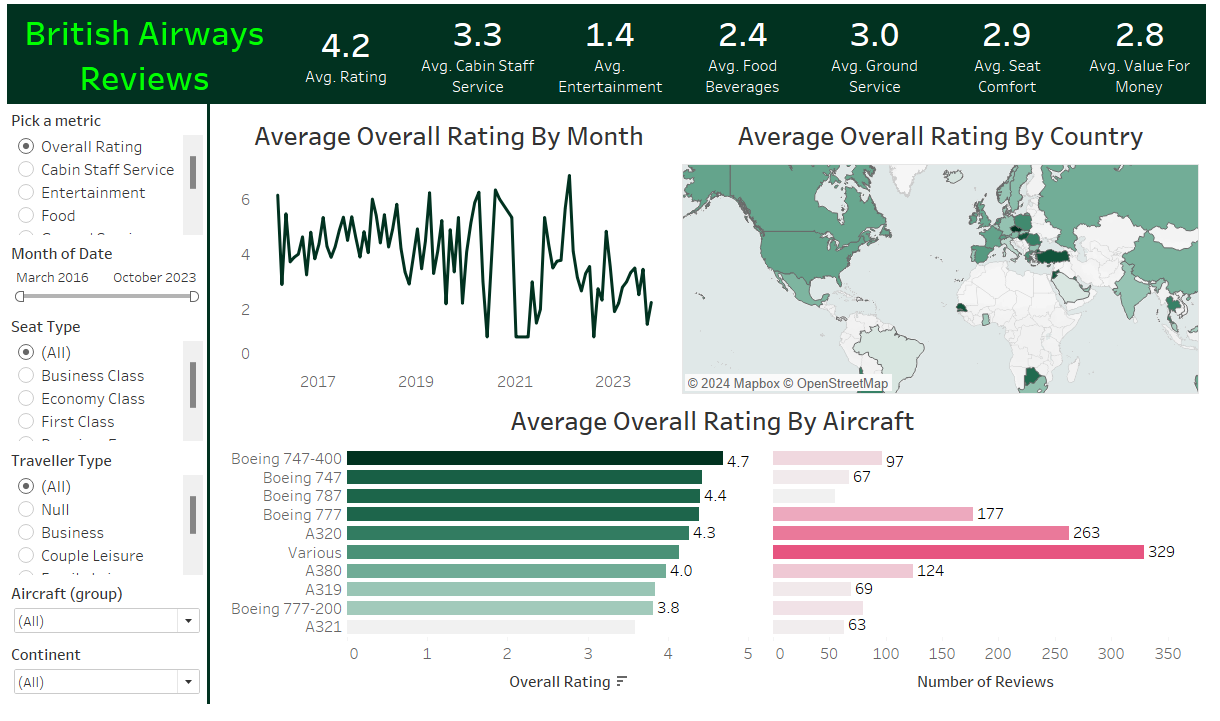

The page's visual inventory and layout, read from the dashboard file:
{"tool":"tableau","page":{"name":"Dashboard 1","canvas":[1200,700],"ordinal":0},"visuals":[{"type":"text","box":[0,0,275,100]},{"type":"worksheet","title":"summary","mark":"Automatic","box":[273,0,926,100]},{"type":"blank","box":[200,100,3,600]},{"type":"parameter","param":"[Parameters].[Parameter 1]","box":[0,102,200,133.3]},{"type":"worksheet","title":"Month","mark":"Automatic","rows":["Calculation_467529988195790848"],"cols":["date"],"box":[220,110,444,280]},{"type":"worksheet","title":"Map","mark":"Automatic","box":[675,110,517,280]},{"type":"filter","title":"Map","param":"[federated.1pcnwoo1g4pvph10ksfk00hadk1e].[tmn:date:qk]","box":[0,235.3,200,73]},{"type":"filter","title":"Map","param":"[federated.1pcnwoo1g4pvph10ksfk00hadk1e].[none:seat_type:nk]","box":[0,308.3,200,133.3]},{"type":"worksheet","title":"Aircraft","mark":"Automatic","cols":["Calculation_467529988195790848","ba_reviews.csv_693B5AD7C0CC43C9AB5E245D8FB67E5F"],"box":[220,395,971,300]},{"type":"filter","title":"Map","param":"[federated.1pcnwoo1g4pvph10ksfk00hadk1e].[none:traveller_type:nk]","box":[0,441.7,200,133.3]},{"type":"filter","title":"Map","param":"[federated.1pcnwoo1g4pvph10ksfk00hadk1e].[Aircraft (group)]","box":[0,575,200,61]},{"type":"filter","title":"Map","param":"[federated.1pcnwoo1g4pvph10ksfk00hadk1e].[none:Continent:nk]","box":[0,636,200,61]}]}

Visuals, with their boxes in screenshot pixels (x1, y1, x2, y2), scaled from the page's 1200x700 canvas onto the 1220x721 screenshot:
text: region(0, 0, 280, 103)
"summary" worksheet: region(278, 0, 1219, 103)
blank: region(203, 103, 206, 720)
parameter: region(0, 105, 203, 242)
"Month" worksheet: region(224, 113, 675, 402)
"Map" worksheet: region(686, 113, 1212, 402)
"Map" filter: region(0, 242, 203, 318)
"Map" filter: region(0, 318, 203, 455)
"Aircraft" worksheet: region(224, 407, 1211, 716)
"Map" filter: region(0, 455, 203, 592)
"Map" filter: region(0, 592, 203, 655)
"Map" filter: region(0, 655, 203, 718)
